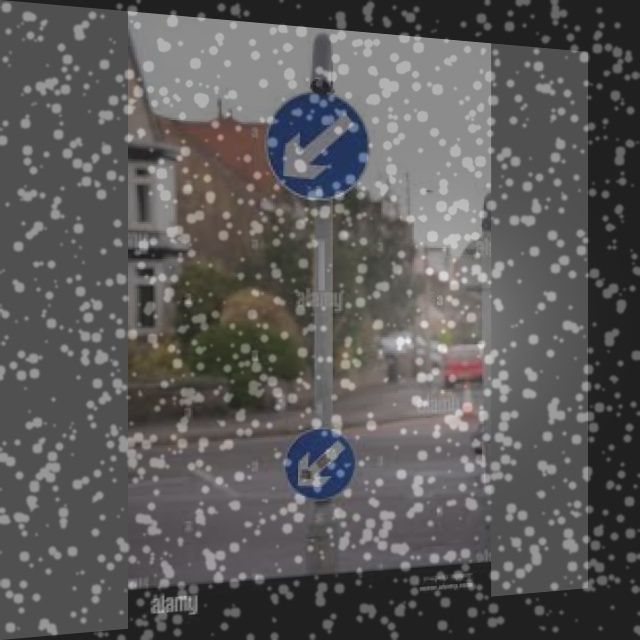Compulsory_Keep_Left: (265, 88, 370, 202)
